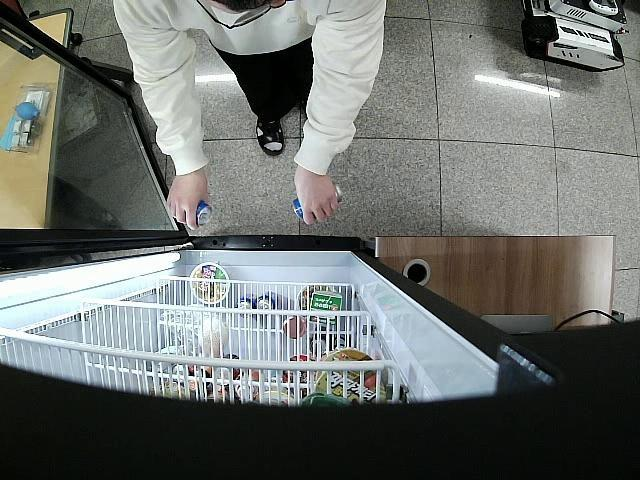15_letsbe: (292, 180, 342, 220), (196, 202, 212, 229)
